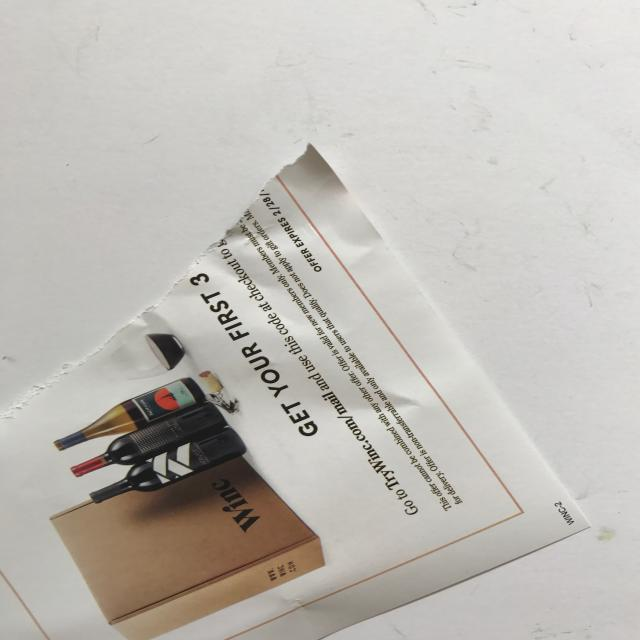paper: (0, 120, 613, 640)
